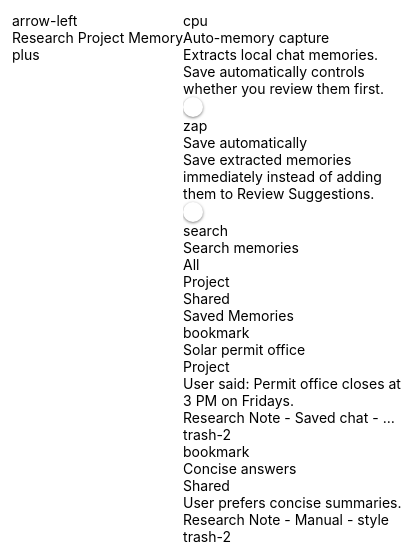
Test: MemoryScreen › filters project views by memory scope
This screenshot has width=414, height=559.
Click the button with test id "memory-filter-project". click: [292, 282]
box: [183,273,402,290]
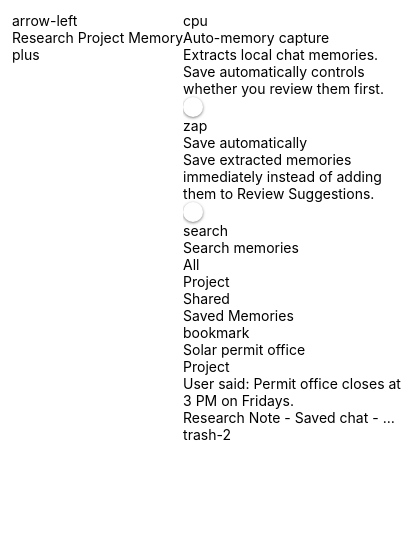
Expected: the text "Solar permit office" is shown, [183,341,305,358]
Now the text "Concise answers" is gone
Click the button with test id "memory-filter-global". click: [292, 298]
box: [183,290,402,307]
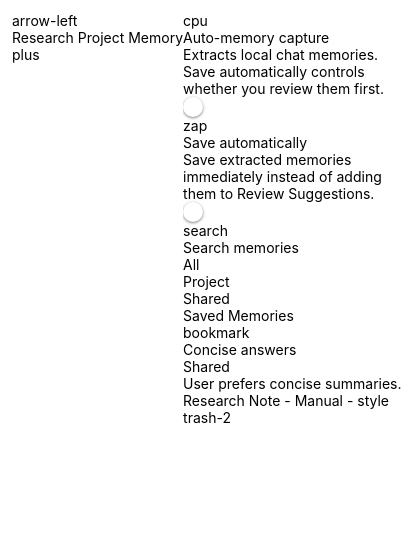
Now the text "Concise answers" is shown, box [183,341,296,358]
Now the text "Solar permit office" is gone
